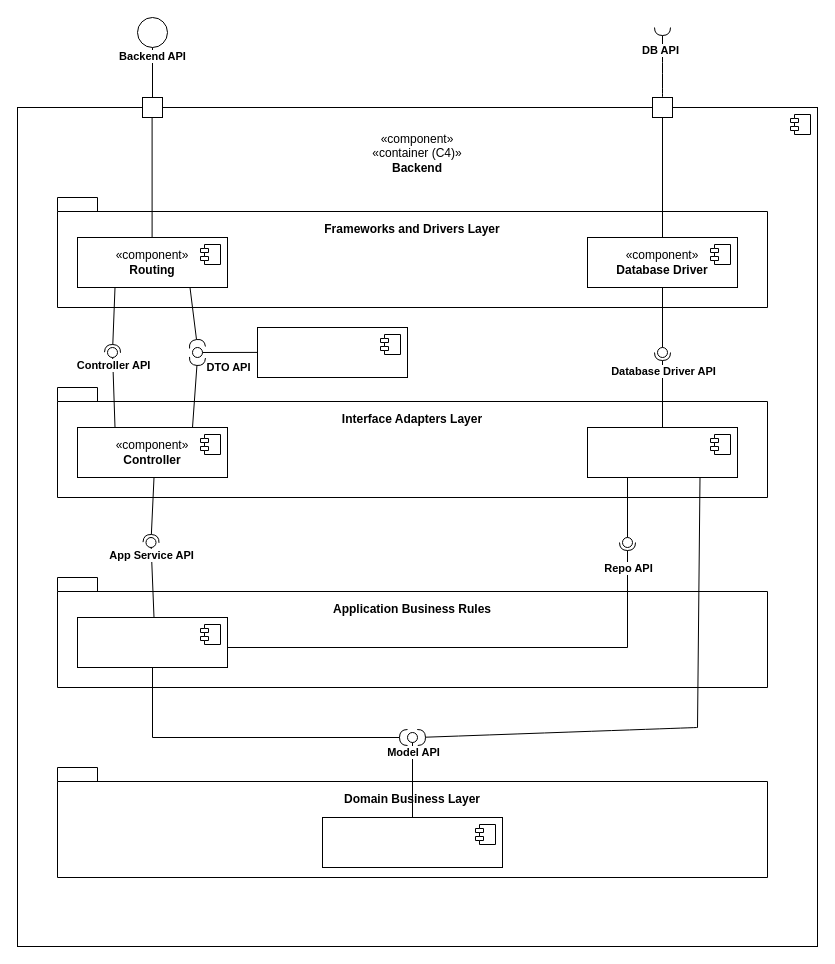
Some shapes in this 835 by 964 pixel diagram are drawn without their labels. Each missing label, with the centre of its shape:
«component» Application Service: the point at 152,642
«component» Domain Model (DDD): the point at 412,842
«component» DTO: the point at 332,352
«component» Repository: the point at 662,452
